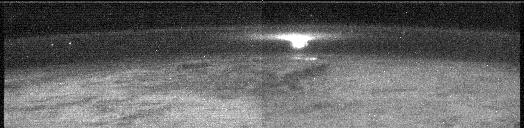negative: (268, 32, 330, 52)
